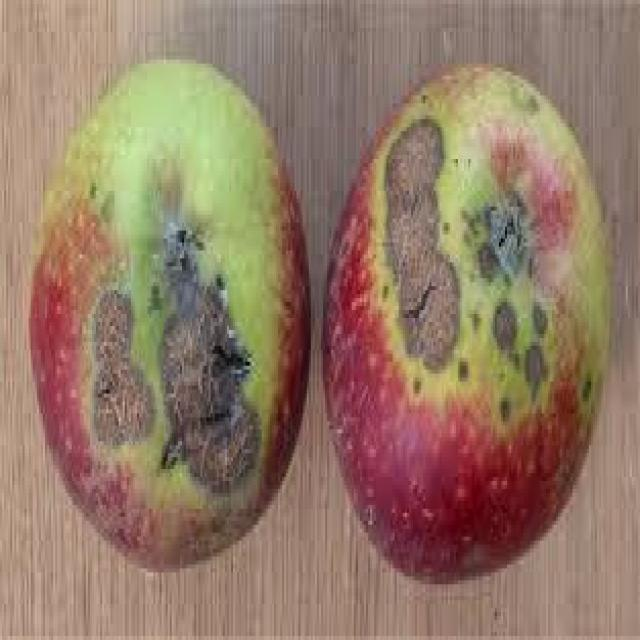maca: (319, 56, 611, 580), (27, 51, 310, 568)
